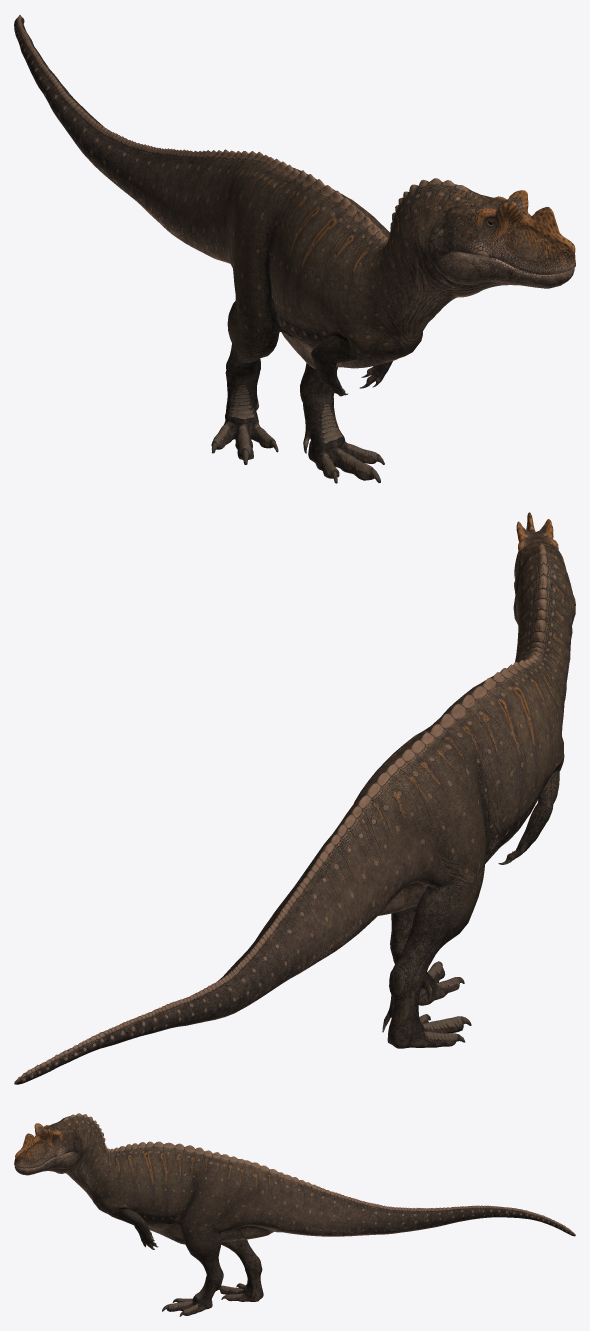
3 views of the same model, one above another, from view 1: azimuth 30°, elevation 25°; view 2: azimuth 150°, elevation 25°; view 3: azimuth 270°, elevation 25° (orthographic). The views are drawn at different scales.
Visible parts, largest first — view 1: cerato_low_0; view 2: cerato_low_0; view 3: cerato_low_0.
Boxes of the visible parts, <box> form: cerato_low_0: <box>14,15,575,483</box>; cerato_low_0: <box>14,512,575,1084</box>; cerato_low_0: <box>14,1113,575,1316</box>.
Bounding box in the file's own units: 0.9975 × 2.31 × 6.08.
